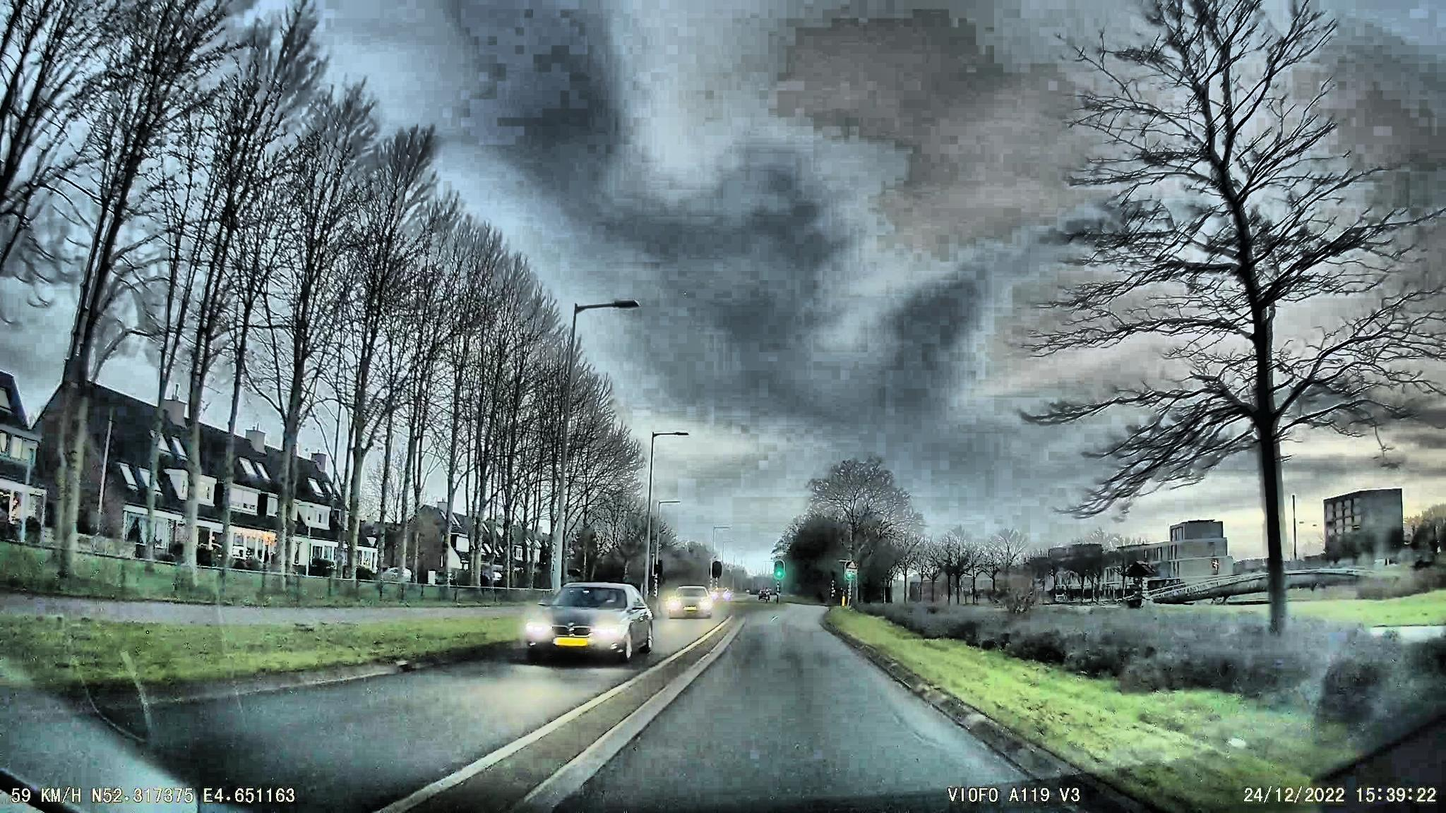Roads: (0, 606, 1136, 813)
